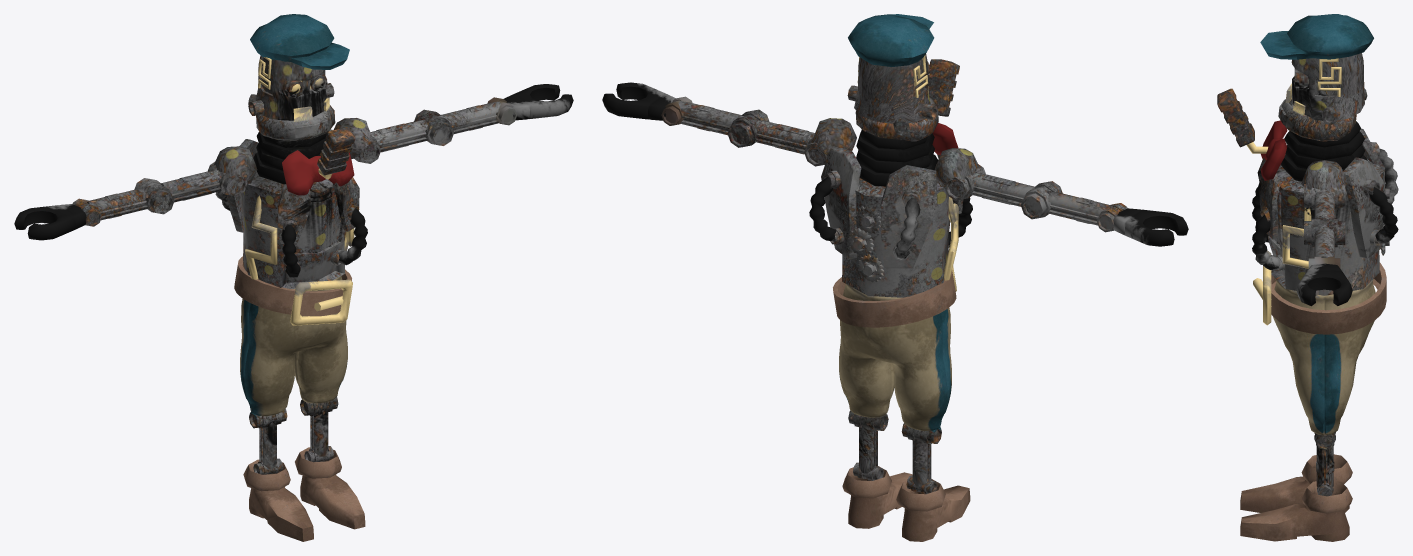
File: speacker_model_3D.FBX
The picture shows the model from 3 angles, left to right: view 1: azimuth 30°, elevation 25°; view 2: azimuth 150°, elevation 25°; view 3: azimuth 270°, elevation 25°; orthographic projection. The views are drawn at different scales.
Parts seen in each view (by area): view 1: Robot; view 2: Robot; view 3: Robot.
Boxes of the visible parts, x1,y1,x2,y2 form: Robot: [14, 14, 573, 541]; Robot: [602, 14, 1188, 541]; Robot: [1217, 14, 1398, 541].
Bounding box in the file's own units: 187 × 157 × 51.27.
Materials: 2 (2 with a texture image).
